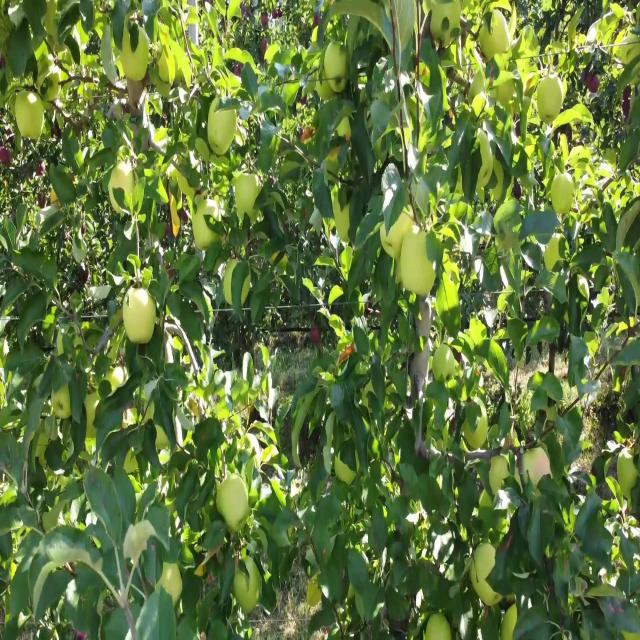apple: (400, 234, 437, 299), (124, 284, 157, 343), (384, 206, 419, 260), (480, 14, 513, 62), (236, 561, 263, 617), (208, 106, 238, 156), (16, 92, 45, 142), (196, 199, 221, 252), (236, 170, 262, 219), (120, 35, 149, 78), (525, 447, 552, 489), (160, 561, 184, 606), (112, 163, 133, 212), (116, 49, 149, 80), (324, 42, 349, 80), (220, 56, 243, 96), (464, 419, 488, 452), (52, 383, 72, 420), (172, 177, 191, 215), (40, 78, 61, 108), (128, 78, 148, 107), (160, 49, 176, 84), (320, 78, 344, 101), (324, 78, 349, 100), (444, 255, 460, 288), (504, 604, 519, 639), (472, 319, 488, 347), (328, 7, 342, 39), (188, 391, 203, 420), (264, 433, 279, 462), (328, 78, 349, 98), (184, 7, 200, 32), (76, 21, 90, 48), (500, 526, 513, 555), (96, 7, 107, 41), (340, 341, 356, 364), (156, 426, 170, 452), (336, 120, 352, 142), (472, 92, 485, 119), (308, 583, 323, 606), (36, 42, 50, 66), (112, 369, 127, 391), (152, 127, 168, 146), (112, 305, 124, 329), (224, 270, 232, 306), (588, 71, 600, 94), (236, 547, 247, 571), (624, 85, 632, 117), (172, 334, 184, 354), (420, 63, 431, 84), (260, 348, 270, 370), (168, 220, 180, 238), (160, 447, 171, 464), (312, 327, 321, 347), (88, 433, 96, 453), (408, 291, 417, 308), (260, 14, 268, 28), (312, 28, 319, 43), (500, 298, 507, 313), (316, 14, 321, 28)
